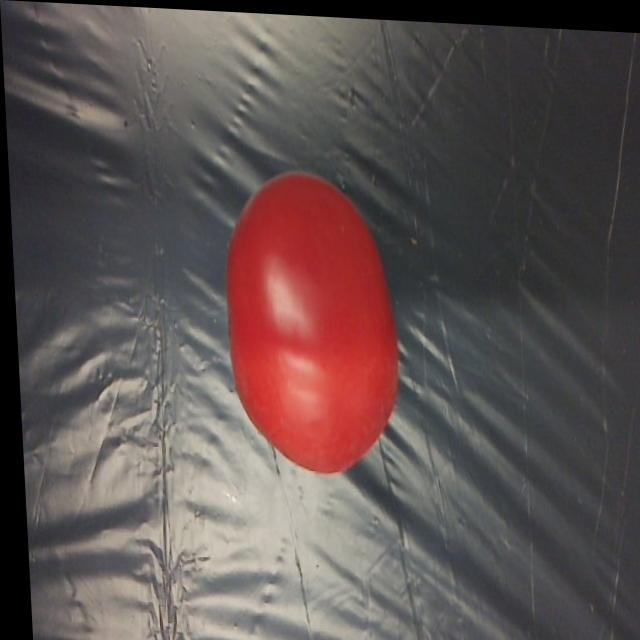kirmizi: (214, 159, 412, 479)
